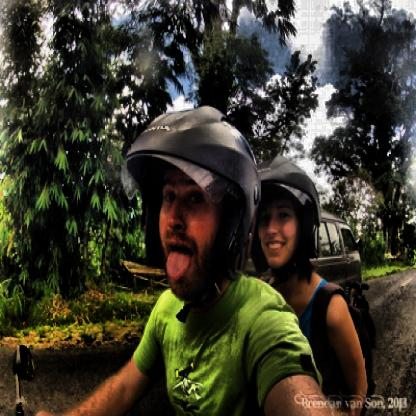wear: (144, 127, 257, 298), (252, 164, 318, 268)
